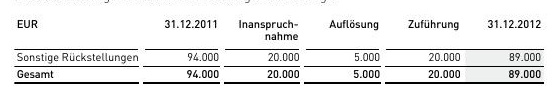table: (0, 0, 556, 96)
